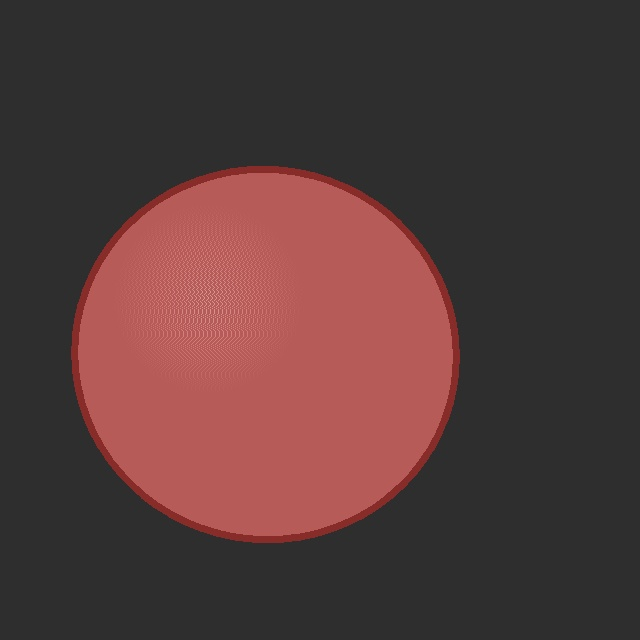lens: (75, 169, 455, 539)
